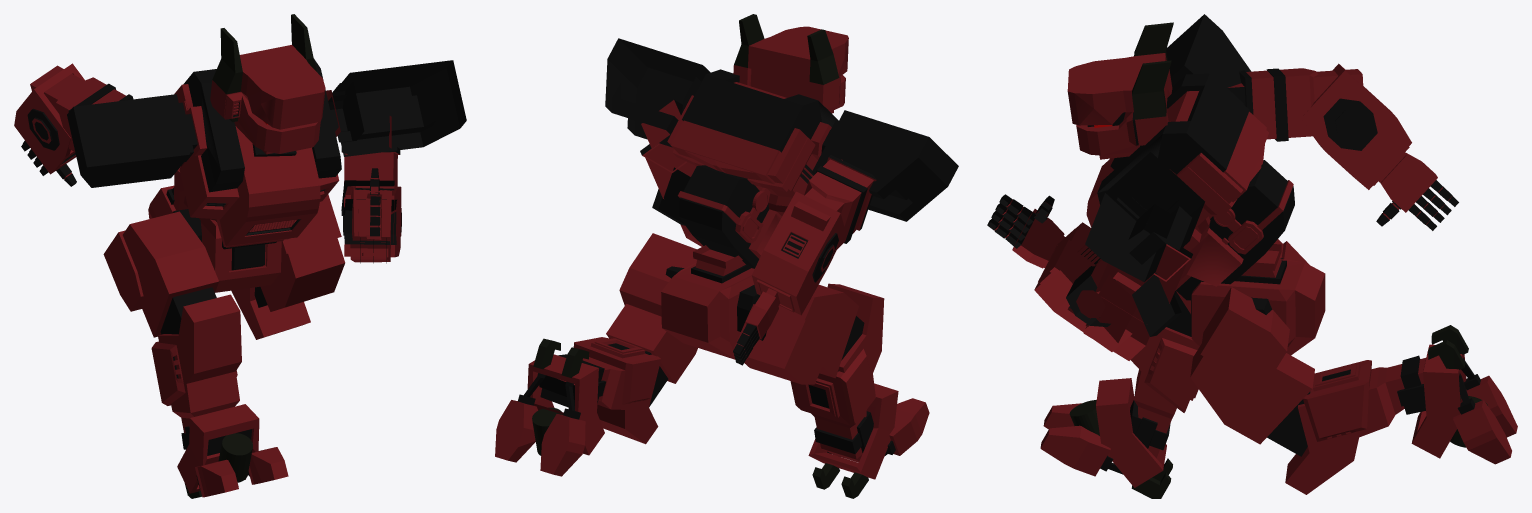
The model's file is walk4.obj.
3 renders of one model, left to right at view 1: azimuth 30°, elevation 25°; view 2: azimuth 150°, elevation 25°; view 3: azimuth 270°, elevation 25°, orthographic. The views are drawn at different scales.
Parts seen in each view (by area): view 1: R_UpperShoulder_Cube.030; view 2: R_UpperShoulder_Cube.030; view 3: R_UpperShoulder_Cube.030.
Part boxes in pixels (x1=…): R_UpperShoulder_Cube.030: x1=14, y1=14, x2=466, y2=498; R_UpperShoulder_Cube.030: x1=495, y1=14, x2=958, y2=498; R_UpperShoulder_Cube.030: x1=987, y1=14, x2=1517, y2=498.
Bounding box in the file's own units: 1.43 × 1.76 × 1.77.
